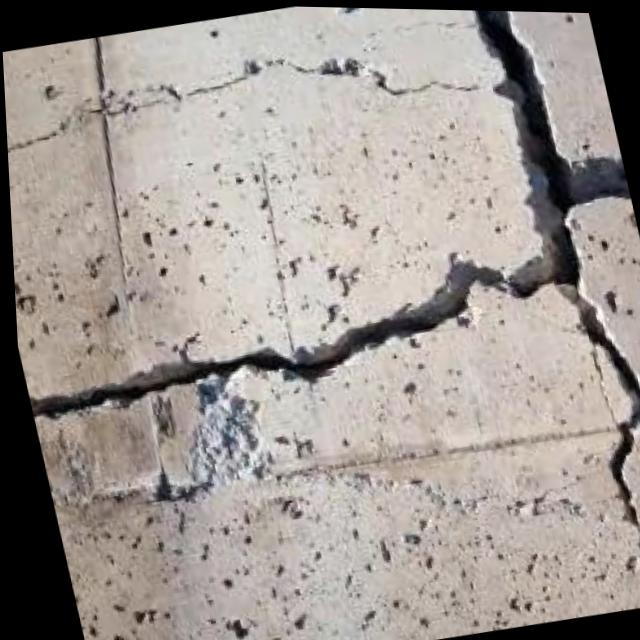Crack: (428, 7, 640, 612), (0, 0, 462, 212), (8, 206, 322, 475), (272, 177, 534, 480)
